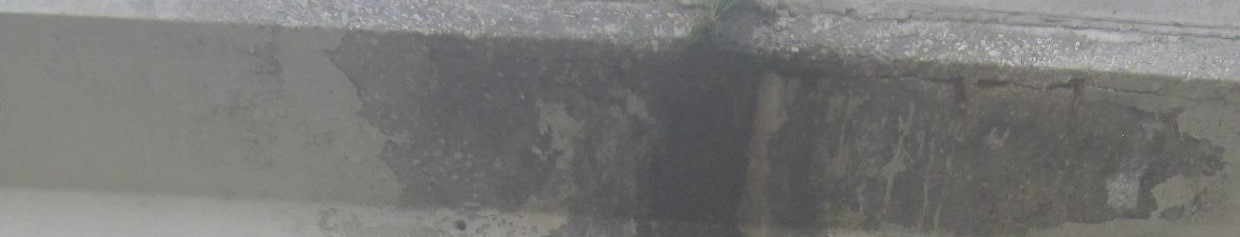Spalling: (324, 29, 1224, 237)
